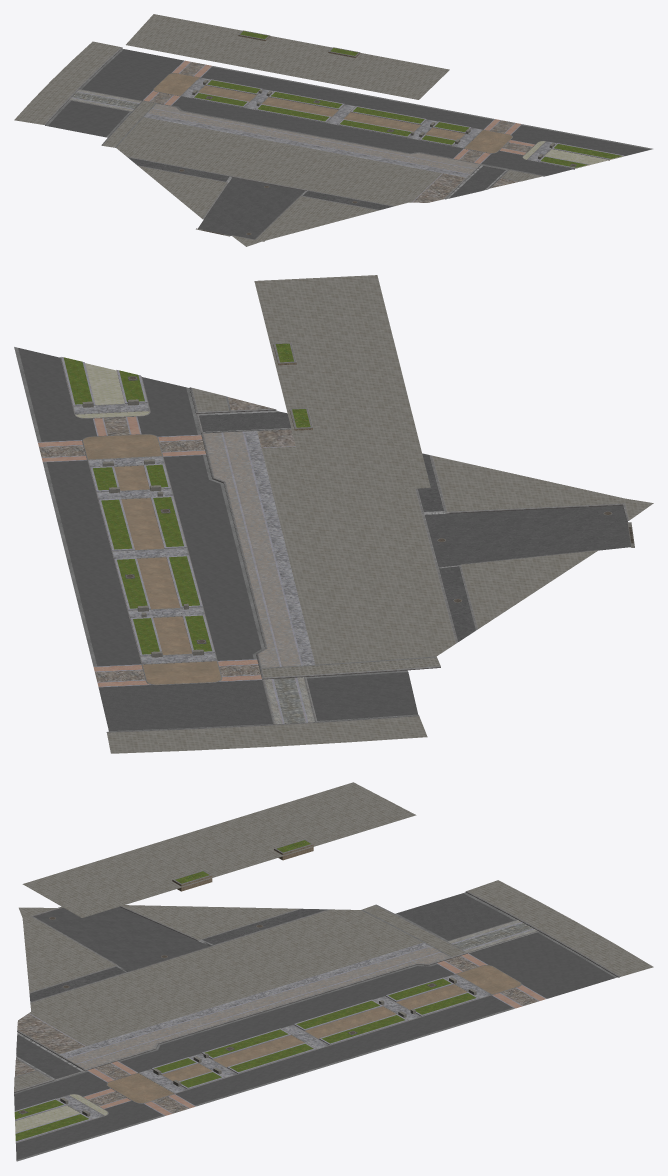
3 renders of one model, top to bottom at view 1: azimuth 30°, elevation 25°; view 2: azimuth 150°, elevation 25°; view 3: azimuth 270°, elevation 25°, orthographic. The views are drawn at different scales.
Parts seen in each view (by area): view 1: um_t1_g22_1_model_t1_g22_1_modelShape; view 2: um_t1_g22_1_model_t1_g22_1_modelShape; view 3: um_t1_g22_1_model_t1_g22_1_modelShape.
Boxes of the visible parts, x1,y1,x2,y2 form: um_t1_g22_1_model_t1_g22_1_modelShape: (14,14,652,246); um_t1_g22_1_model_t1_g22_1_modelShape: (14,275,653,753); um_t1_g22_1_model_t1_g22_1_modelShape: (14,782,653,1161).
Bounding box in the file's own units: 105 × 23.69 × 101.
Materials: 12 (12 with a texture image).
